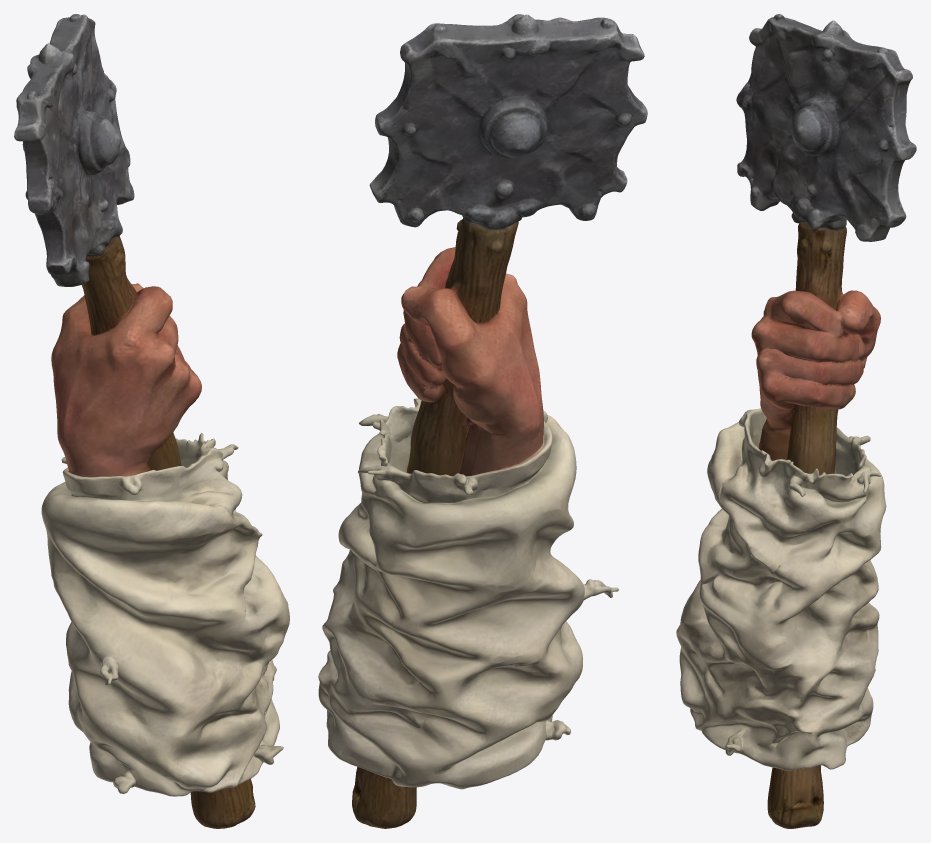
3 views of the same model, side by side, from view 1: azimuth 30°, elevation 25°; view 2: azimuth 150°, elevation 25°; view 3: azimuth 270°, elevation 25° (orthographic). The views are drawn at different scales.
Visible parts, largest first — view 1: tripo_node_163e447f-2003-446a-be4a-4714ec9fc5eb; view 2: tripo_node_163e447f-2003-446a-be4a-4714ec9fc5eb; view 3: tripo_node_163e447f-2003-446a-be4a-4714ec9fc5eb.
Part boxes in pixels (<box>): tripo_node_163e447f-2003-446a-be4a-4714ec9fc5eb: <box>14,14,289,828</box>; tripo_node_163e447f-2003-446a-be4a-4714ec9fc5eb: <box>318,14,647,828</box>; tripo_node_163e447f-2003-446a-be4a-4714ec9fc5eb: <box>676,14,916,828</box>.
Bounding box in the file's own units: 0.3651 × 1 × 0.2958.
1 material, 1 textured.
